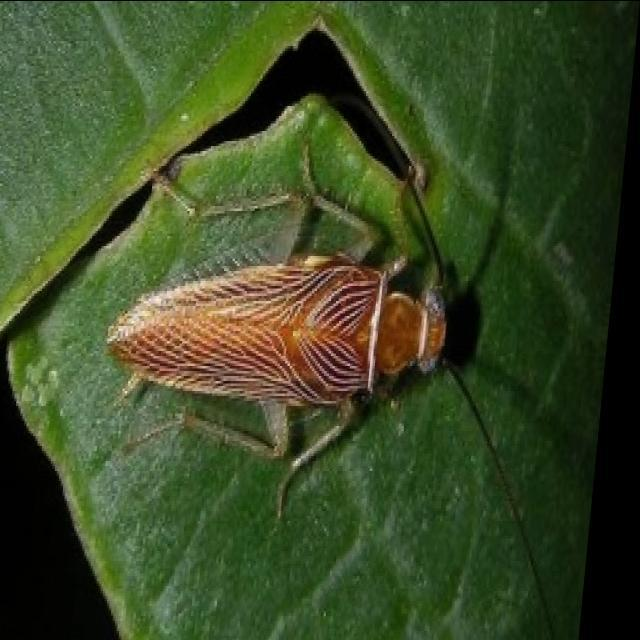cockroach: (78, 195, 486, 470)
